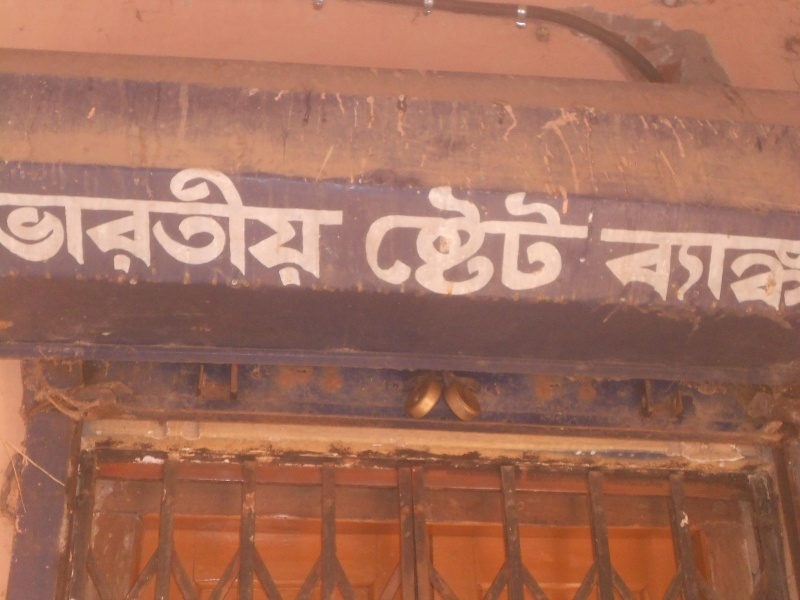text: (17, 154, 32, 297), (33, 154, 48, 297), (49, 154, 64, 297), (65, 154, 80, 297), (81, 154, 96, 297), (97, 154, 112, 297), (113, 154, 128, 297), (129, 154, 144, 297), (145, 154, 160, 297), (161, 154, 176, 297), (177, 154, 192, 297), (193, 154, 208, 297), (209, 154, 224, 297), (225, 154, 240, 297), (241, 154, 256, 297), (257, 154, 272, 297), (273, 154, 288, 297), (289, 154, 304, 297), (305, 154, 320, 297), (321, 154, 336, 297), (369, 184, 384, 297), (385, 184, 400, 297), (401, 184, 416, 297), (417, 184, 432, 297), (433, 184, 448, 297), (449, 184, 464, 297), (465, 184, 480, 297), (481, 184, 496, 297), (497, 184, 512, 297), (513, 184, 528, 297), (529, 184, 544, 297), (545, 184, 560, 297), (561, 184, 576, 297), (577, 184, 592, 297), (337, 154, 348, 297), (609, 223, 624, 319), (625, 223, 640, 319), (641, 223, 656, 319), (657, 223, 672, 319), (673, 223, 688, 319), (689, 223, 704, 319), (705, 223, 720, 319), (721, 223, 736, 319), (737, 223, 752, 319), (753, 223, 768, 319), (769, 223, 784, 319), (785, 223, 800, 319), (6, 154, 16, 297), (597, 223, 608, 319), (361, 184, 368, 297)
